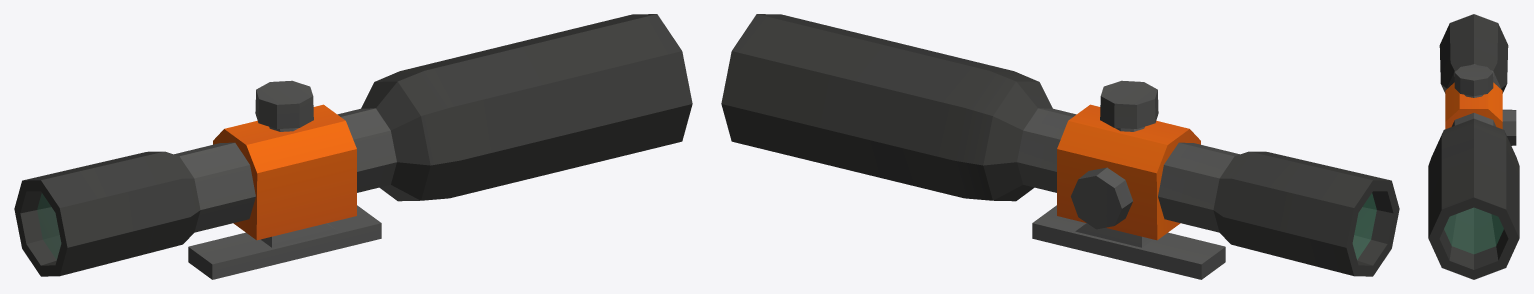
File: Scope_mesh.fbx
3 views of the same model, side by side, from view 1: azimuth 30°, elevation 25°; view 2: azimuth 150°, elevation 25°; view 3: azimuth 270°, elevation 25° (orthographic). The views are drawn at different scales.
Parts seen in each view (by area): view 1: Scope_mesh; view 2: Scope_mesh; view 3: Scope_mesh.
Boxes of the visible parts, x1,y1,x2,y2 form: Scope_mesh: (14, 14, 692, 279); Scope_mesh: (721, 14, 1399, 279); Scope_mesh: (1428, 14, 1519, 279).
Size of the model in its own units: 35.86 by 8.76 by 7.12.
2 materials, 1 textured.
